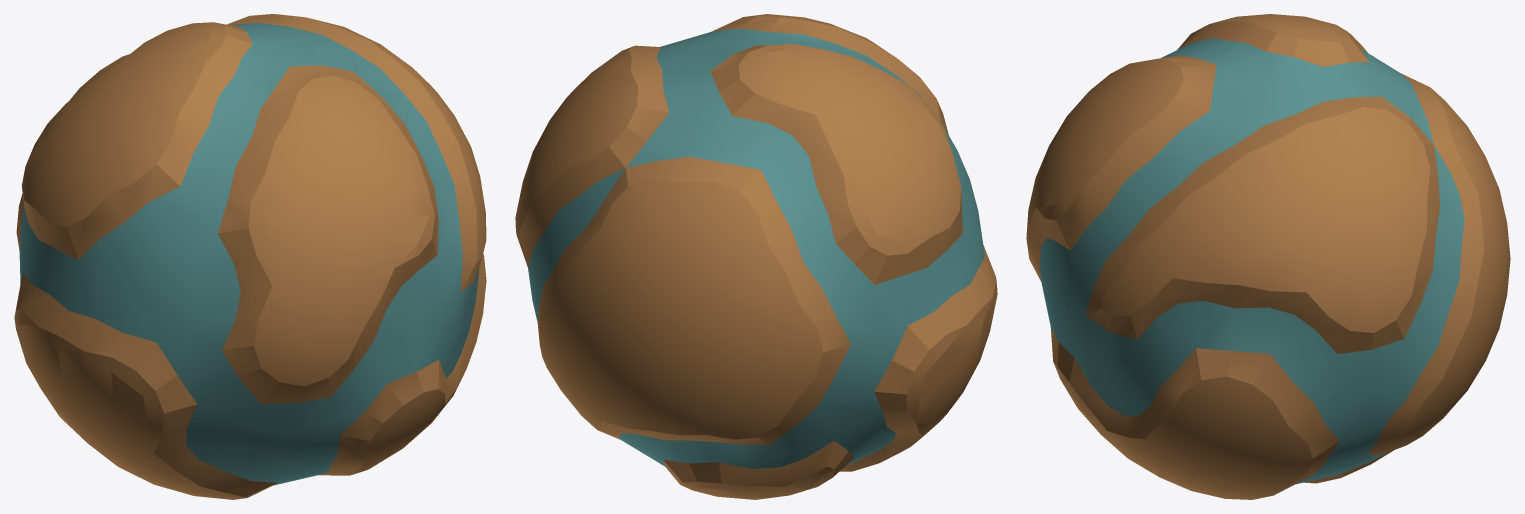
Rendered from planet-2.glb.
The picture shows the model from 3 angles, left to right: view 1: azimuth 30°, elevation 25°; view 2: azimuth 150°, elevation 25°; view 3: azimuth 270°, elevation 25°; orthographic projection.
Visible parts, largest first — view 1: Planet_2; view 2: Planet_2; view 3: Planet_2.
Boxes of the visible parts, box(x1,y1,x2,y2) form: Planet_2: box(14, 14, 486, 499); Planet_2: box(515, 14, 997, 499); Planet_2: box(1026, 14, 1510, 499).
Bounding box in the file's own units: 3.8 × 3.82 × 3.84.
